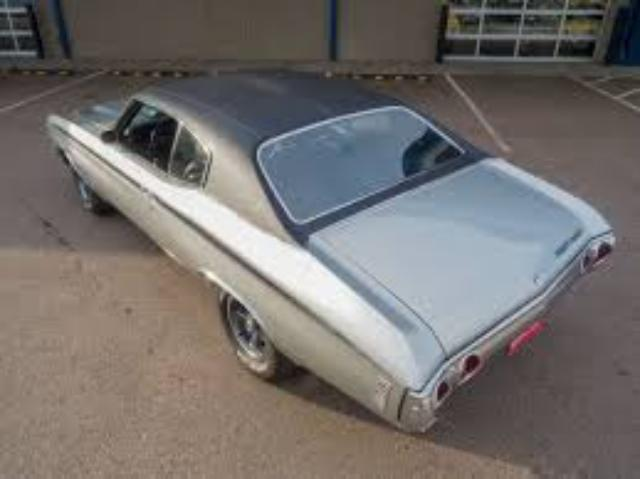chevelle-1972: (47, 69, 613, 432)
